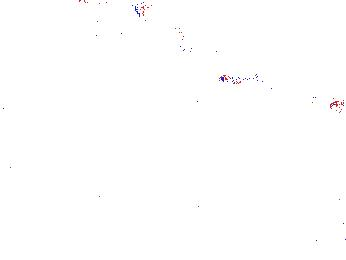X-ray fish: (24, 2, 76, 38)
glassfish: (174, 131, 258, 192)
red belly glassfish: (218, 73, 261, 88), (177, 40, 218, 55)
redtail glassfish: (73, 1, 152, 22), (118, 26, 190, 47)
